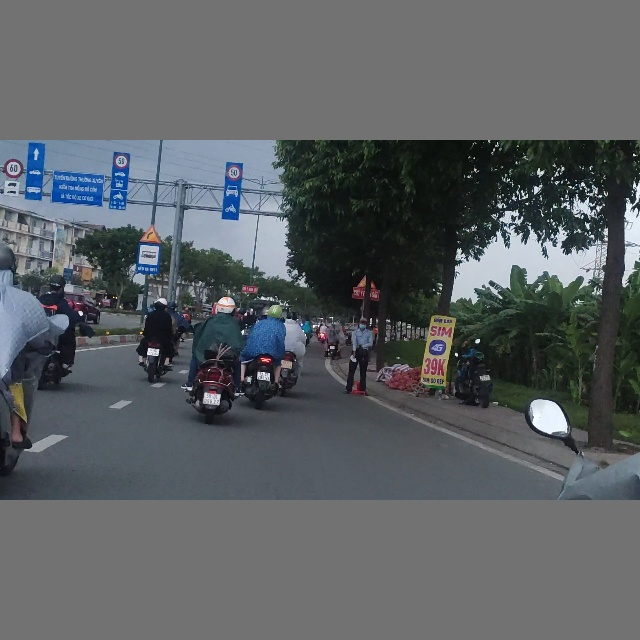I.434a: (137, 243, 160, 273)
P.127*50: (226, 165, 241, 180), (114, 154, 128, 169)
P.127*60: (4, 159, 24, 179)
S.505a*Xe tai va cong: (3, 180, 19, 197)
W.201b: (139, 224, 161, 244)
